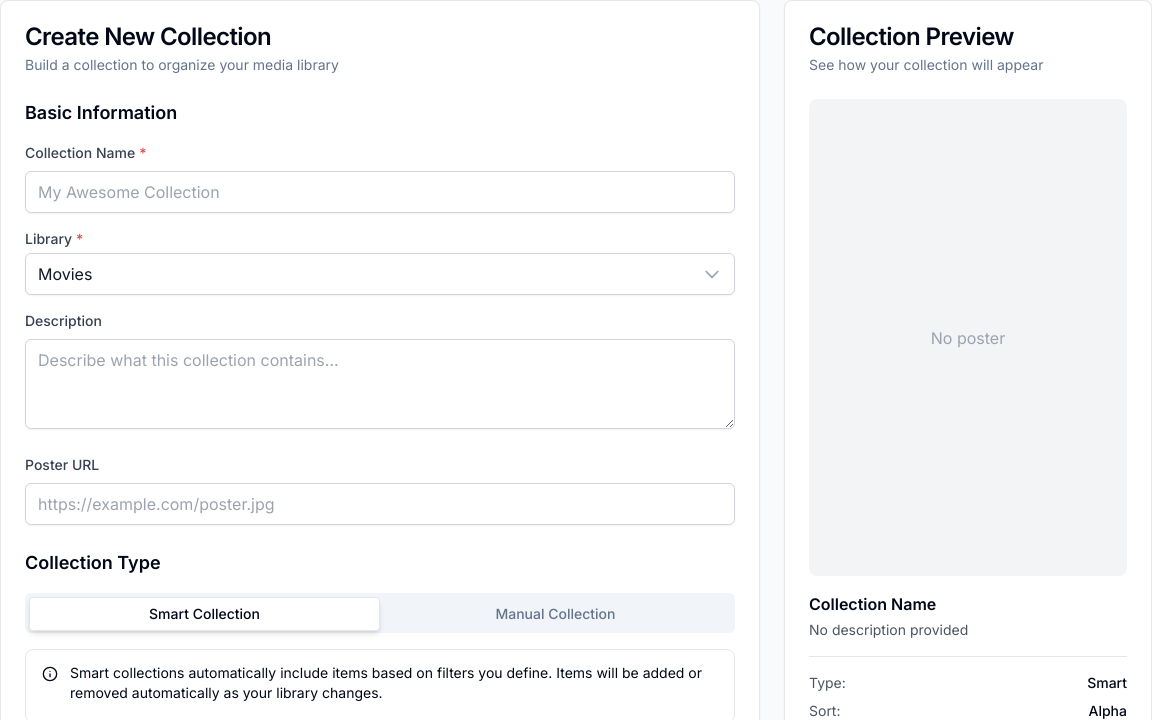
CollectionBuilder › switches between smart and manual collection types
Check: the text "Smart collections automatically include items" is shown, box [70, 664, 702, 701]
Note: Switch to manual
Click the tab "Manual Collection" at (556, 614), box [380, 598, 731, 630]
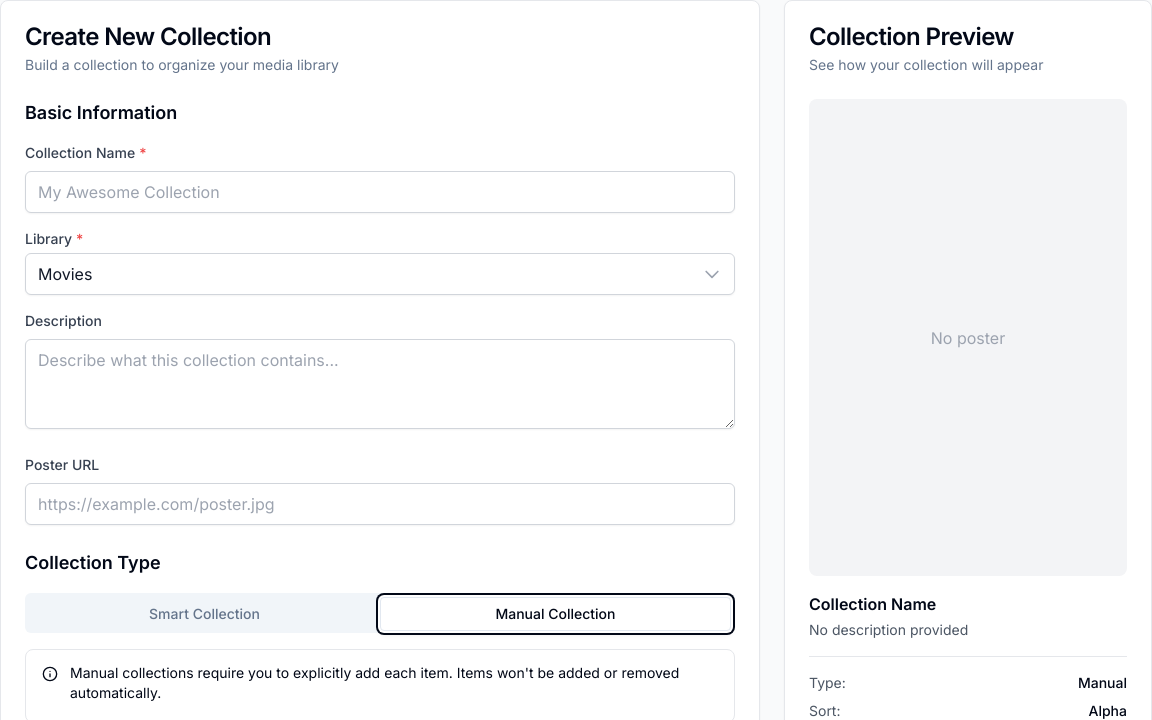
Check: the text "Manual collections require you to explicitly add" is shown, box [70, 664, 679, 701]
